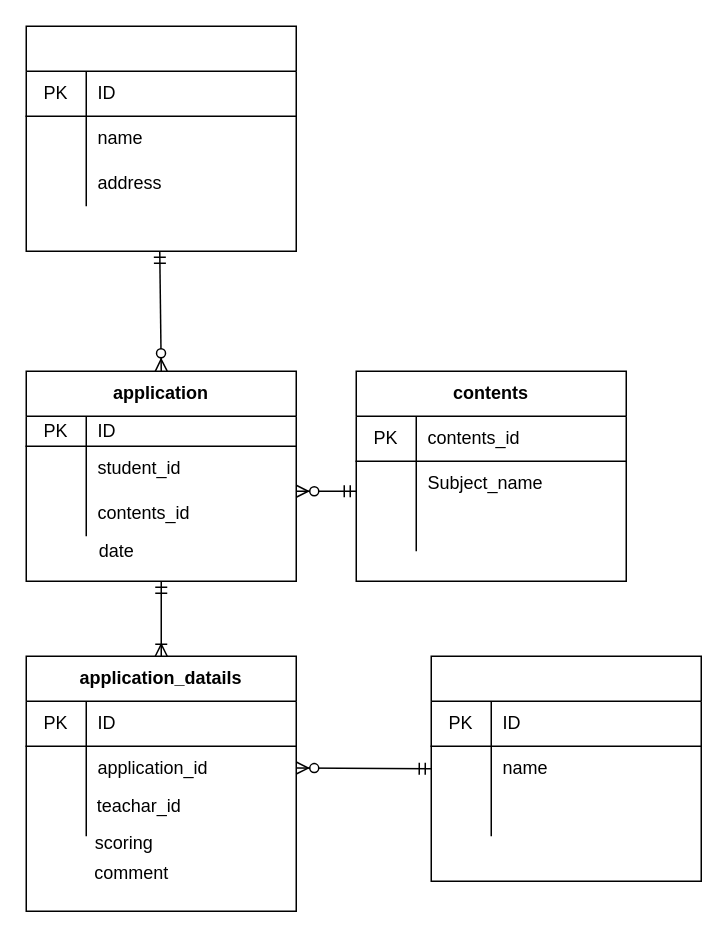
This 728x938 diagram has some shape labels left out. The box of each missing label's shape, as (x1, y1, x2, y2) in pixels:
Student: (25, 25, 296, 251)
teachar: (430, 655, 701, 881)
